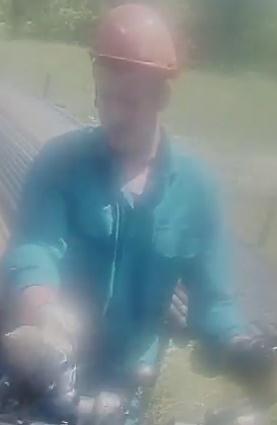gloves: (1, 294, 79, 399), (220, 321, 277, 397)
helmet: (84, 1, 181, 78)
vest: (40, 131, 199, 376)
